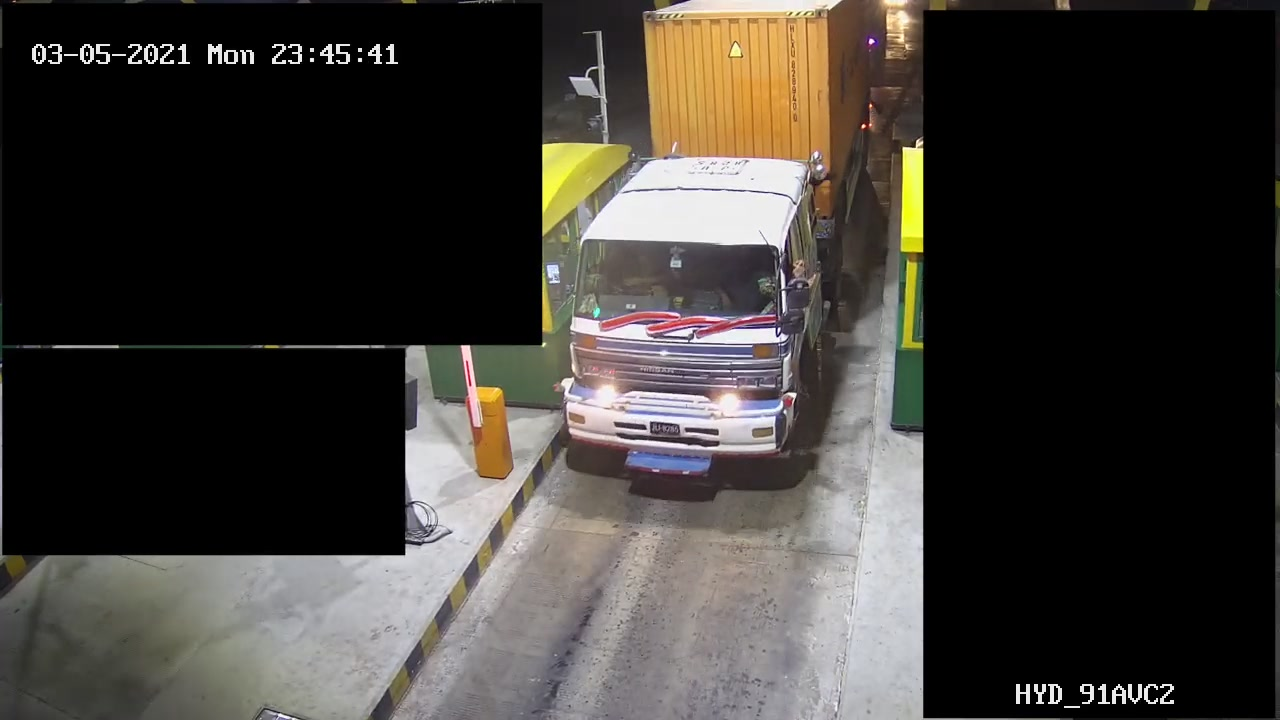F6: (562, 1, 891, 494)
